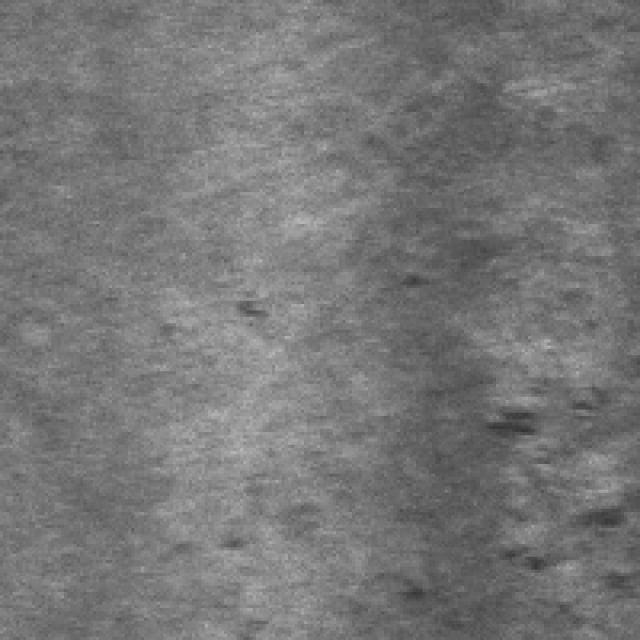rolled-in_scale: (464, 358, 637, 612)
